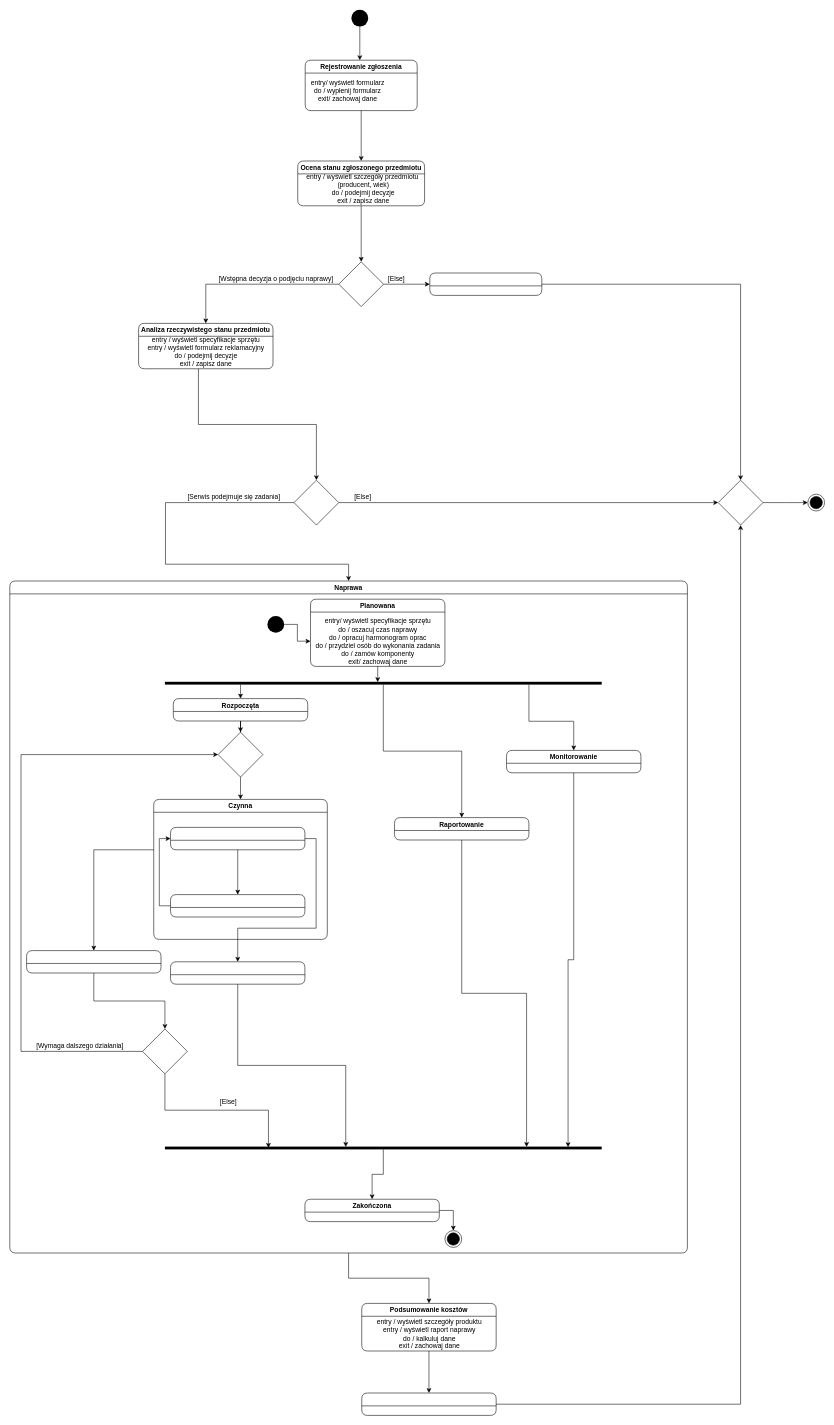
Some shapes in this 834 by 1425 pixel diagram are drawn without their labels. Here are the shapes that lost their labels. From the top down, the centre of each, then its label:
At [485,283]: "Anulowanie".
At [237,838]: "Trwająca".
At [237,905]: "Wstrzymana".
At [93,961]: "Sprawdzenie".
At [237,972]: "Przerwana".
At [428,1403]: "Wystawienie faktury".
